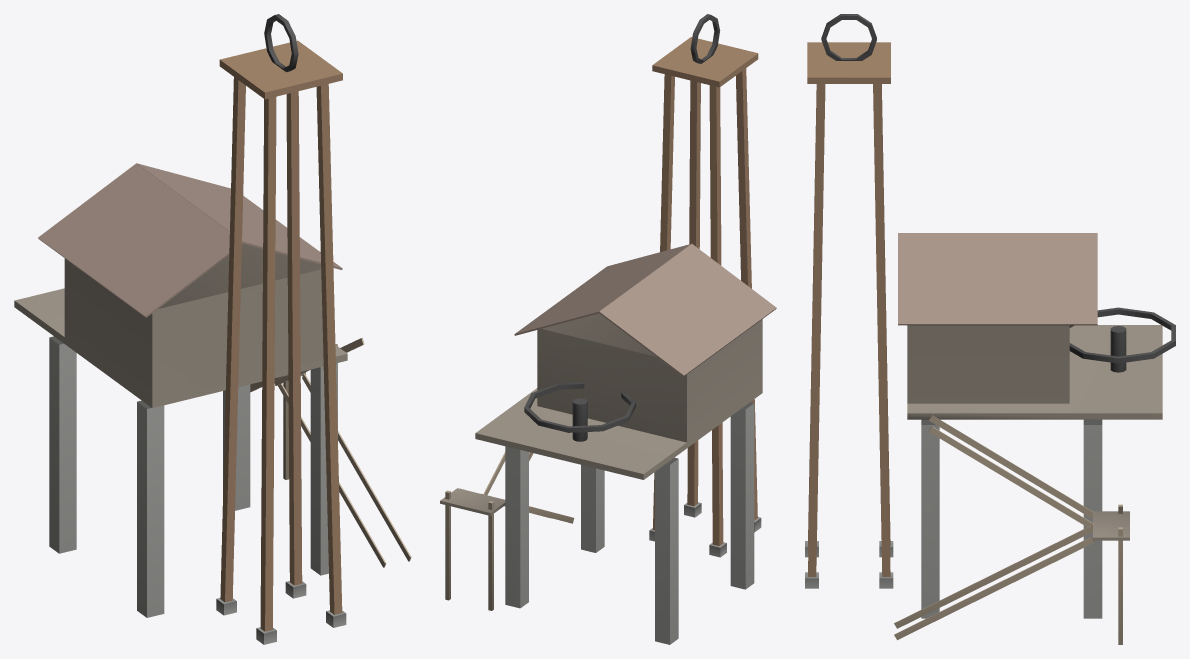
File: ropeway_station_lod2.glb
3 renders of one model, left to right at view 1: azimuth 30°, elevation 25°; view 2: azimuth 150°, elevation 25°; view 3: azimuth 270°, elevation 25°, orthographic. The views are drawn at different scales.
Parts seen in each view (by area): view 1: static; view 2: static; view 3: static.
Part boxes in pixels (<box>): static: <box>14,14,411,644</box>; static: <box>440,14,776,644</box>; static: <box>805,14,1175,644</box>.
Bounding box in the file's own units: 12.24 × 26.64 × 15.97.
